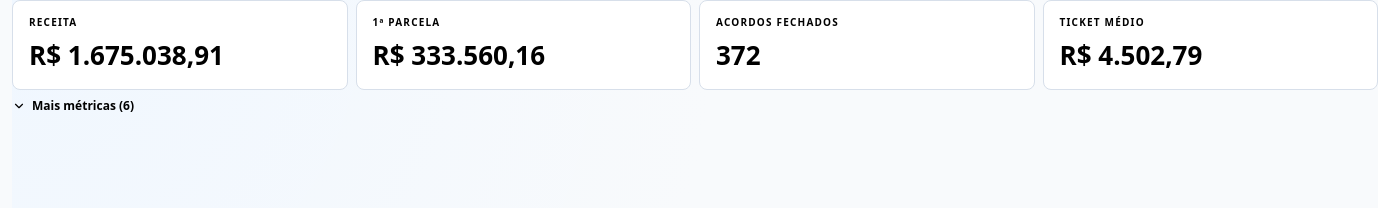
Test: DetalhamentoKpiStrip › renders 4 primary labels and 6 secondary labels
Expected: the text "Receita" is shown, [29, 15, 78, 29]
Expected: the text "1ª Parcela" is shown, [372, 15, 440, 29]
Click the button "Mais métricas (6)".
click(73, 106)  # box [12, 98, 134, 114]
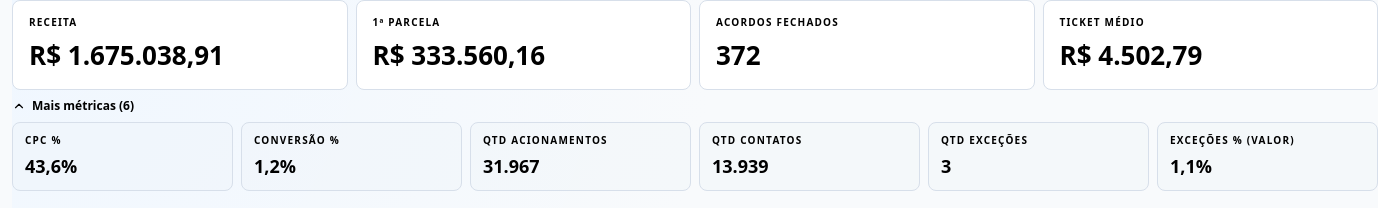
Expected: the text "CPC %" is shown, [25, 133, 62, 147]
Expected: the text "Conversão %" is shown, [254, 133, 340, 147]
Expected: the text "Qtd Acionamentos" is shown, [483, 133, 608, 147]
